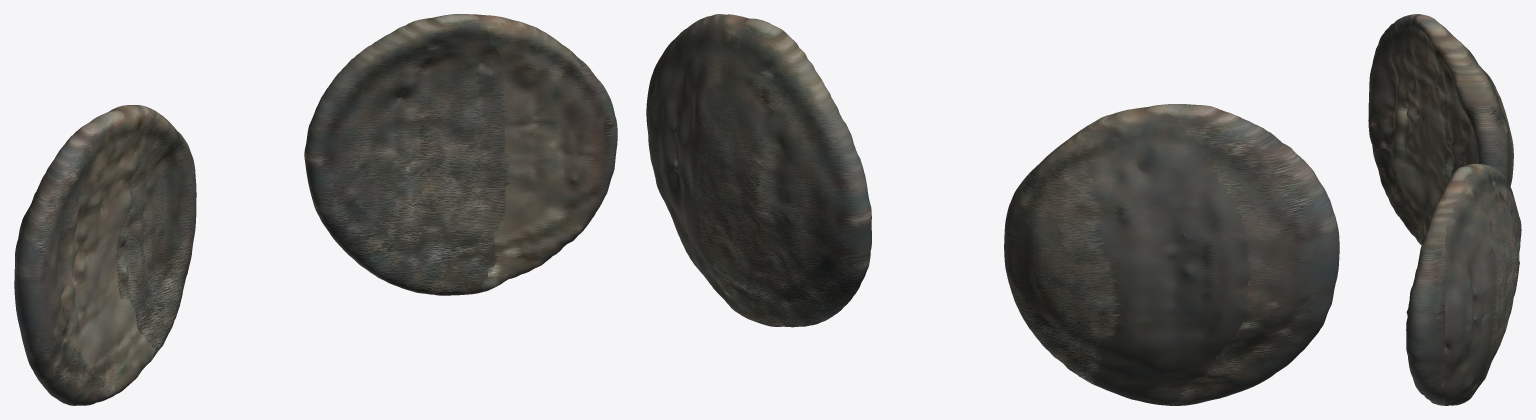
File: kfl-2168.glb
3 views of the same model, side by side, from view 1: azimuth 30°, elevation 25°; view 2: azimuth 150°, elevation 25°; view 3: azimuth 270°, elevation 25° (orthographic). The views are drawn at different scales.
Parts seen in each view (by area): view 1: geometry_0; view 2: geometry_0; view 3: geometry_0.
Boxes of the visible parts, x1=… form: geometry_0: x1=14, y1=14, x2=617, y2=405; geometry_0: x1=646, y1=14, x2=1339, y2=405; geometry_0: x1=1368, y1=14, x2=1521, y2=405.
Size of the model in its own units: 0.9954 by 0.4295 by 0.2625.
1 material, 1 textured.
